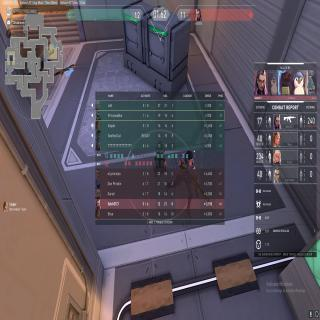ENEMY-HEAD: (184, 148, 193, 166)
